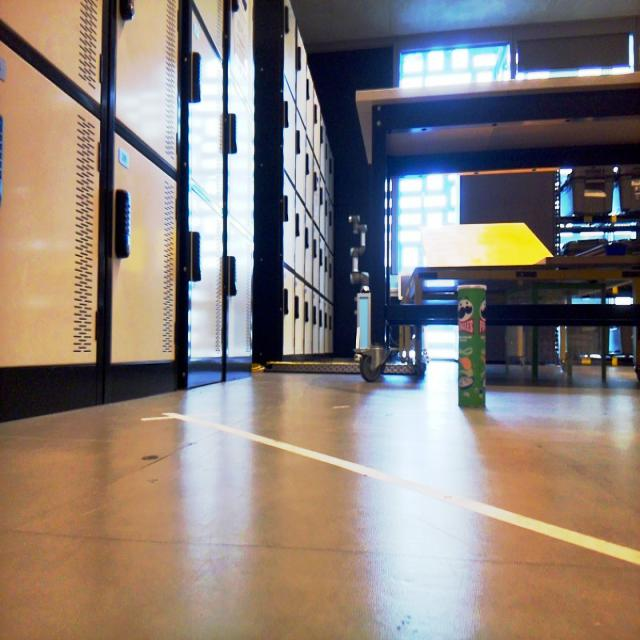greenpringles: (444, 273, 494, 418)
